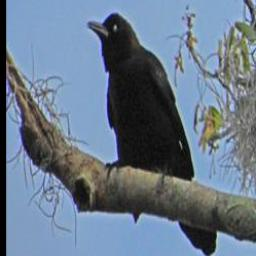Crow: (87, 13, 218, 256)
